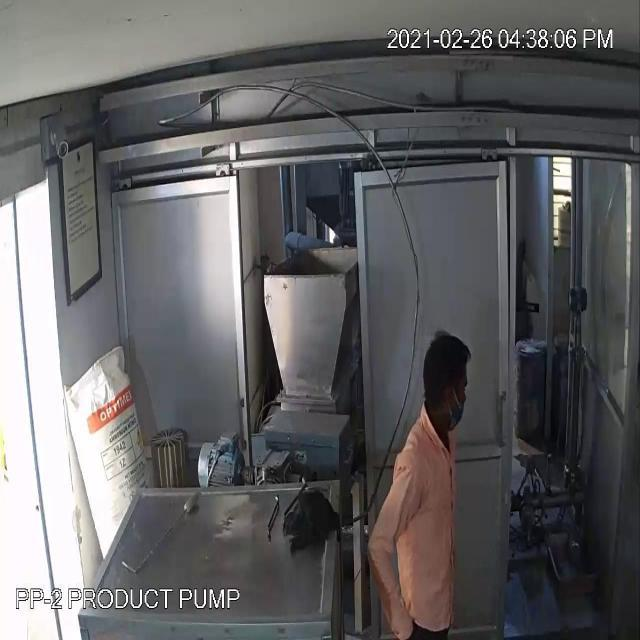no hat: (416, 314, 478, 436)
